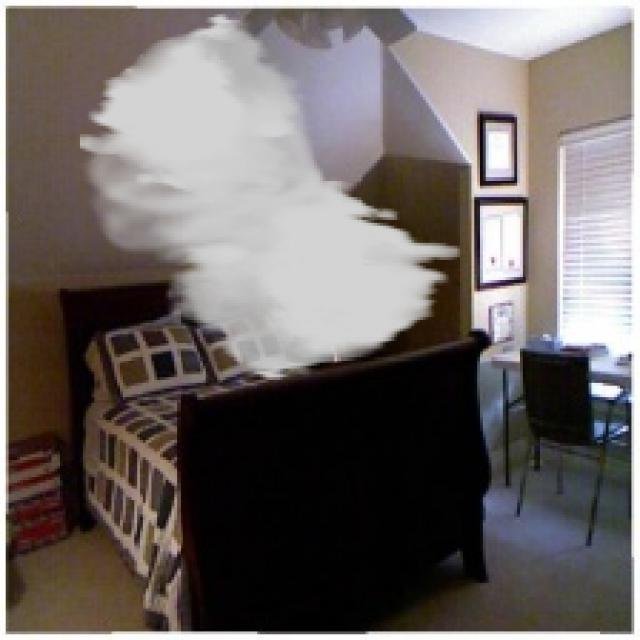smoke: (77, 11, 460, 380)
